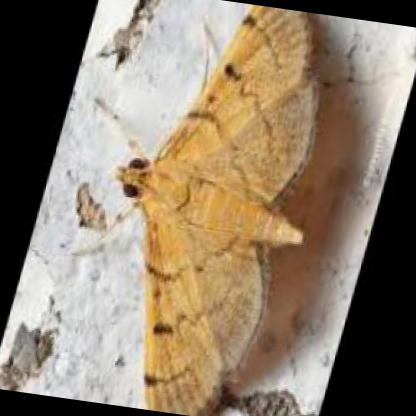Leaf Webber: (110, 4, 324, 416)
